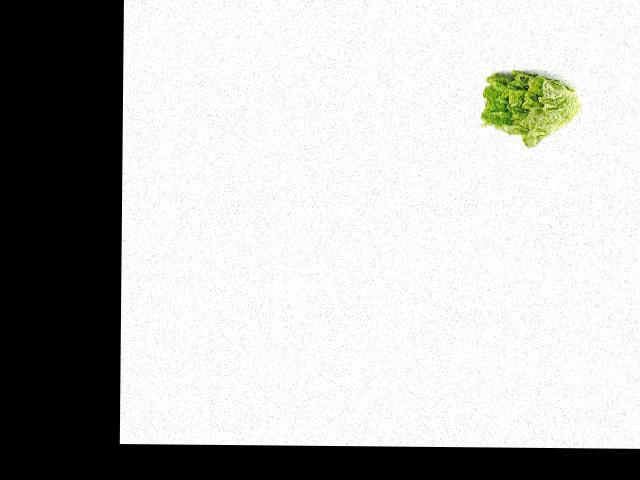lettuce: (481, 64, 580, 146)
